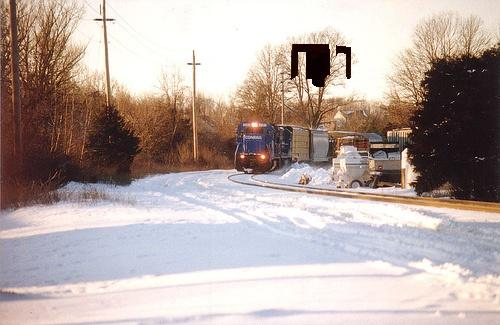tampered: (291, 45, 351, 87)
